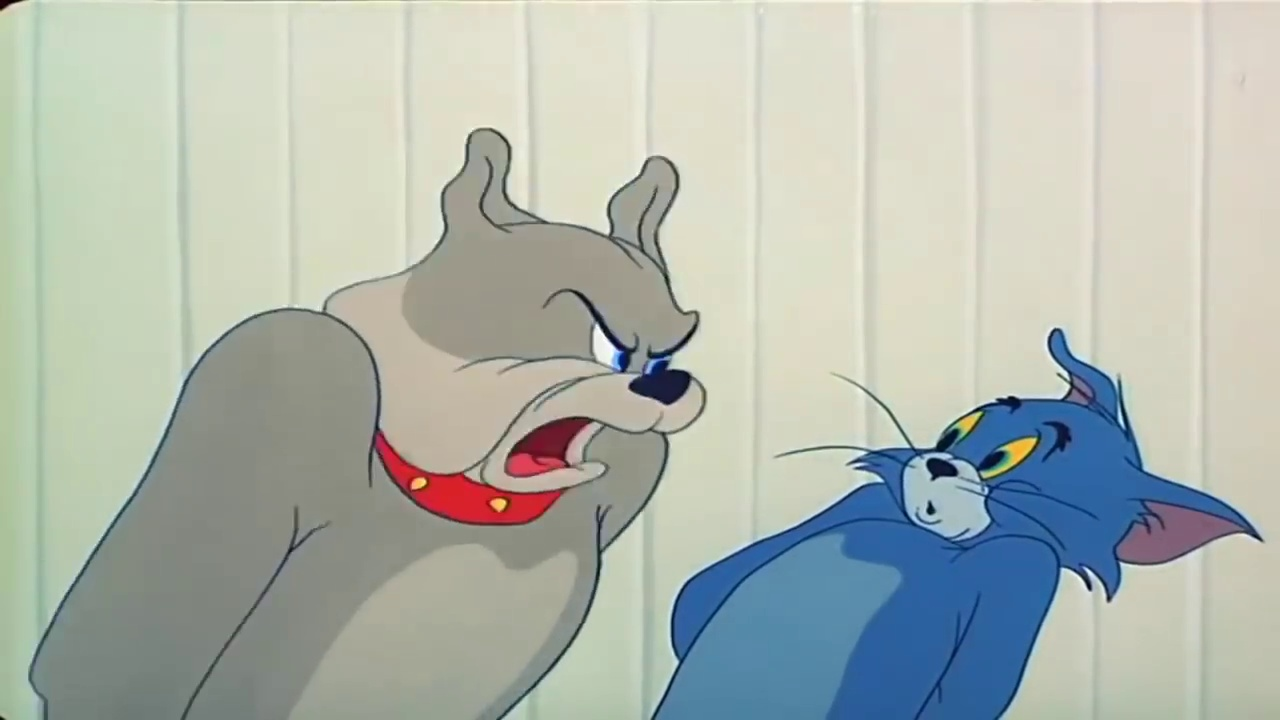spike: (317, 128, 717, 536)
tom: (849, 327, 1271, 607)
